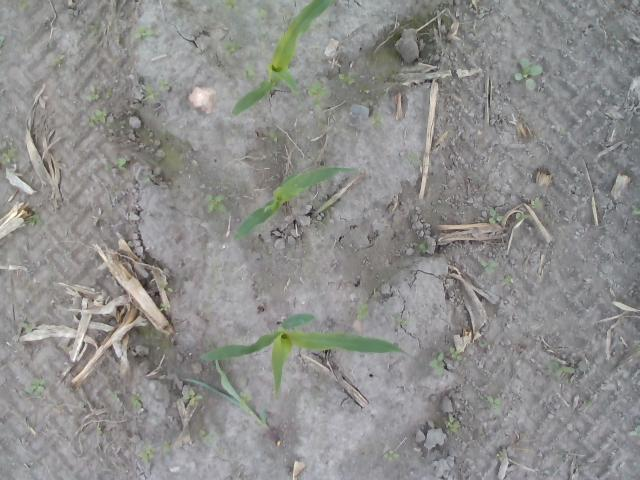Maize: (200, 312, 402, 402), (231, 0, 334, 116), (235, 165, 352, 242), (182, 360, 273, 432)
Weeds: (512, 57, 544, 90), (304, 78, 330, 109), (0, 135, 21, 167), (142, 80, 170, 102), (479, 393, 504, 416), (548, 360, 574, 381), (136, 441, 160, 463), (23, 377, 50, 396), (608, 32, 628, 53), (255, 0, 272, 24), (206, 194, 226, 214), (223, 0, 247, 16), (85, 110, 106, 128), (430, 351, 445, 376), (221, 38, 241, 54), (590, 48, 610, 64), (130, 26, 154, 39), (488, 206, 504, 224), (478, 256, 496, 272), (242, 62, 257, 81), (184, 388, 204, 402), (338, 72, 354, 89), (446, 416, 462, 433), (197, 430, 216, 444), (128, 391, 142, 409), (449, 345, 464, 361), (370, 111, 384, 128), (383, 449, 400, 463), (355, 303, 369, 320), (48, 52, 66, 65), (416, 240, 429, 256), (529, 194, 542, 209), (238, 390, 254, 402), (16, 0, 32, 12), (88, 16, 100, 32), (479, 339, 496, 350), (18, 320, 32, 332), (113, 158, 127, 170), (29, 214, 41, 226), (85, 91, 98, 102), (627, 426, 640, 437), (500, 275, 514, 285), (515, 211, 529, 220), (496, 450, 506, 462), (358, 84, 370, 94), (270, 130, 278, 144), (631, 206, 640, 217), (163, 440, 171, 452), (112, 390, 120, 401), (0, 34, 6, 48), (400, 318, 408, 328), (143, 176, 151, 184)
